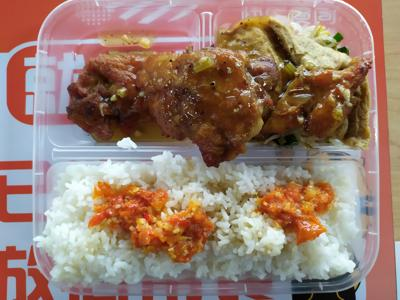rice: (44, 162, 369, 284)
